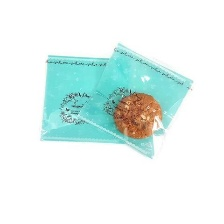snack: (72, 38, 197, 164), (35, 50, 136, 148)
